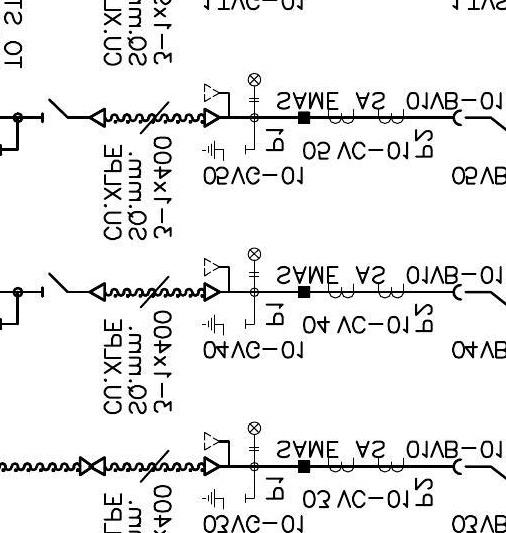22_gs: (202, 313, 248, 337), (202, 488, 248, 511), (202, 140, 248, 163)
22_ll: (247, 421, 262, 452), (247, 247, 262, 278), (247, 72, 262, 103)
terminator_single: (89, 107, 107, 129), (89, 281, 107, 303)
terminator_splicing_kits: (79, 456, 107, 477)
terminator_w_future: (202, 430, 232, 477), (202, 83, 232, 130), (203, 256, 232, 303)
